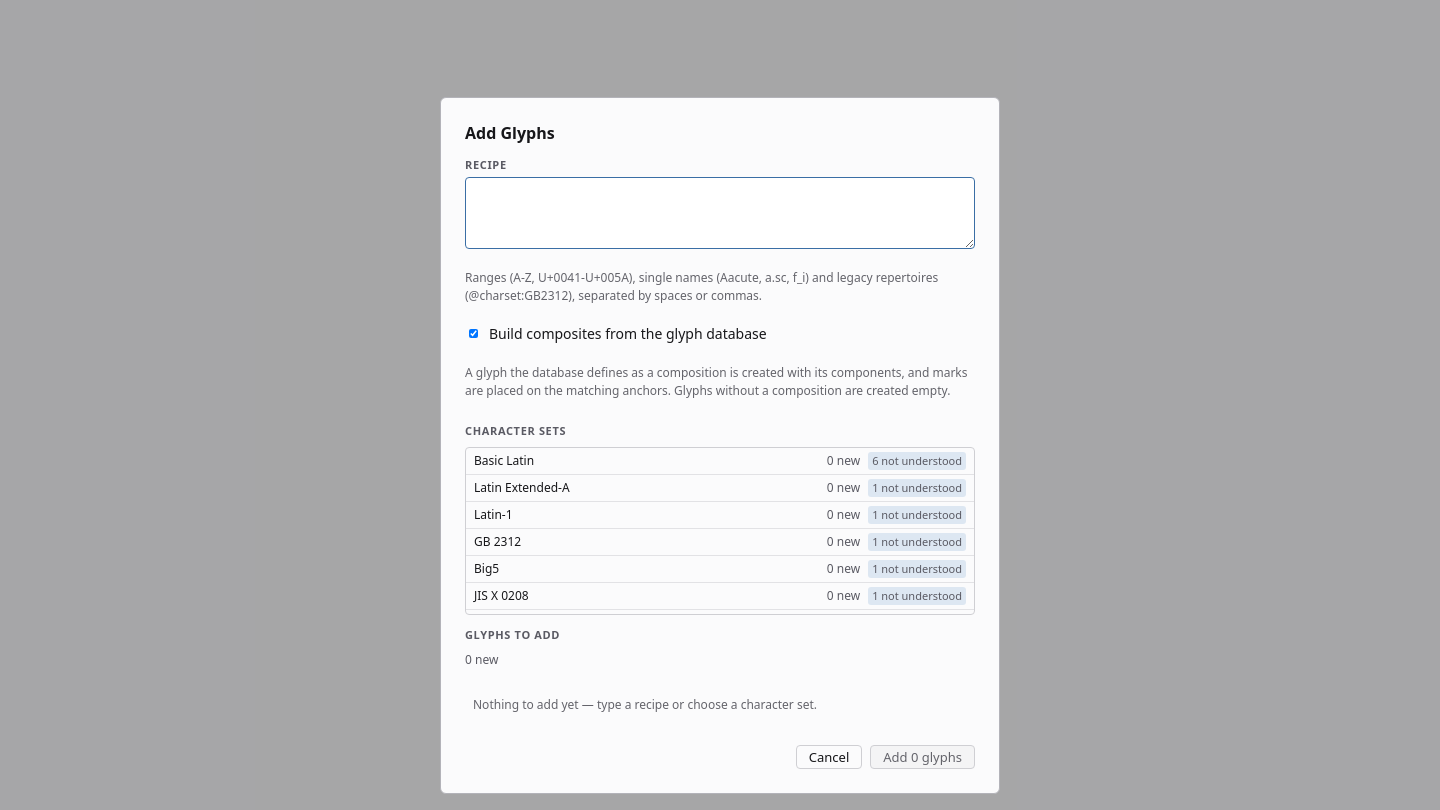
it: AddGlyphsDialog › previews a recipe through a dry run and lists the names
In the text box labelled "Recipe": (720, 213) [465, 177, 975, 249], type "A-C a"
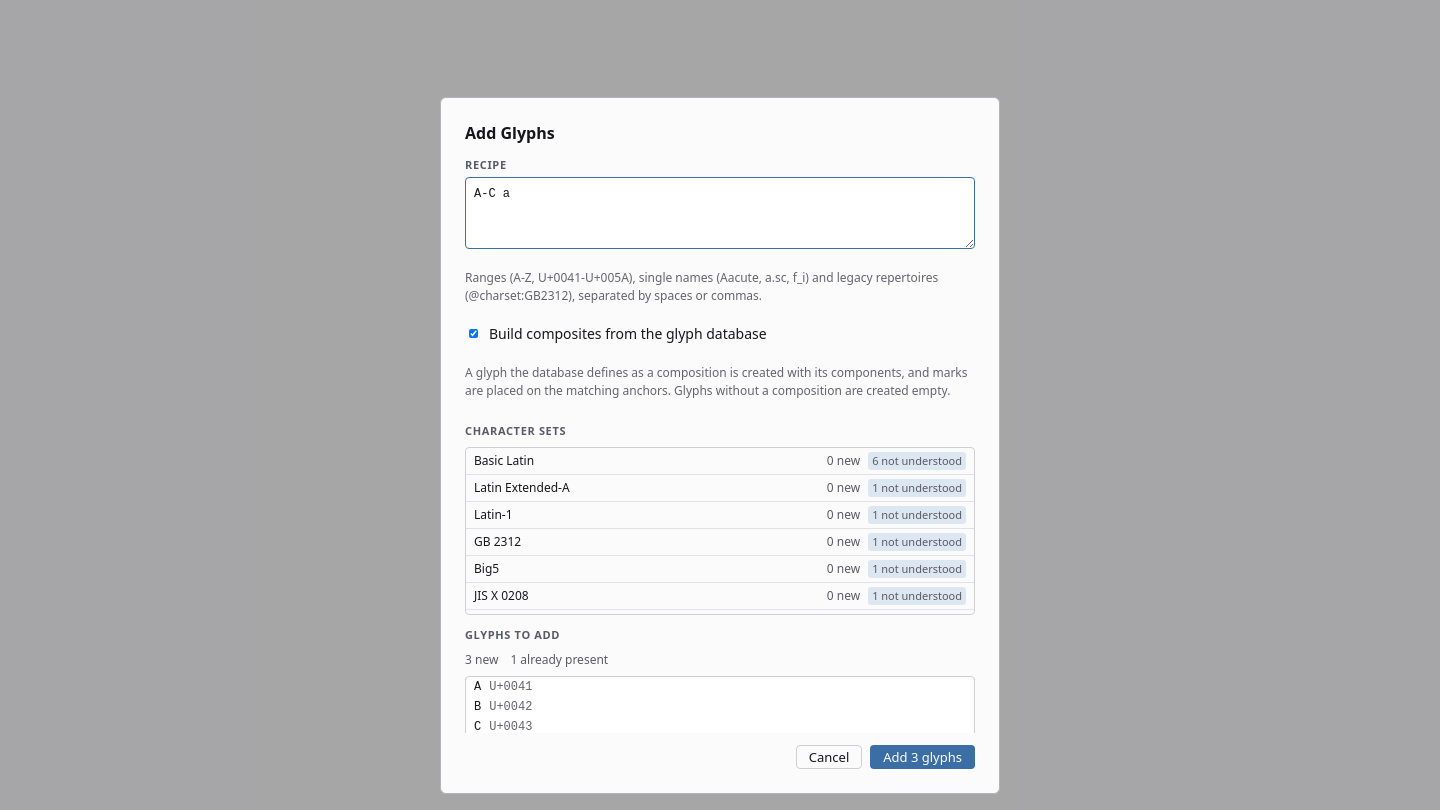
Check: the number of list items is 3, box [474, 680, 532, 694]; [474, 700, 532, 714]; [474, 720, 532, 733]
Check: the text "3 new" is shown, box [465, 651, 498, 668]
Check: the text "1 already present" is shown, box [510, 651, 608, 668]
